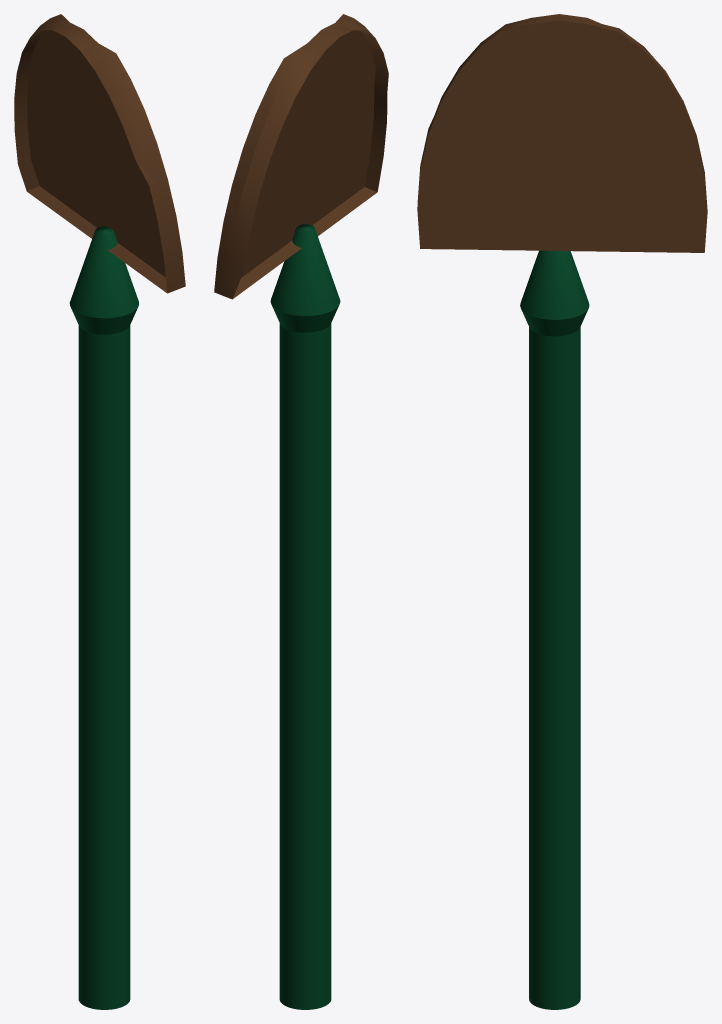
The model's file is schep.fbx.
The picture shows the model from 3 angles, left to right: view 1: azimuth 30°, elevation 25°; view 2: azimuth 150°, elevation 25°; view 3: azimuth 270°, elevation 25°; orthographic projection.
Parts seen in each view (by area): view 1: Cylinder, Circle; view 2: Cylinder, Circle; view 3: Circle, Cylinder.
Part boxes in pixels (bbox=[...]): Cylinder: bbox=[69, 226, 138, 1009]; Circle: bbox=[14, 14, 185, 293]; Cylinder: bbox=[270, 224, 340, 1009]; Circle: bbox=[214, 14, 388, 299]; Circle: bbox=[417, 14, 707, 252]; Cylinder: bbox=[520, 250, 589, 1009].
Size of the model in its own units: 58.7 by 817 by 222.
